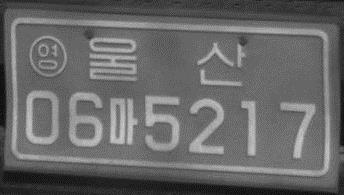0: (23, 88, 59, 144)
1: (237, 98, 258, 160)
2: (188, 96, 227, 156)
5: (143, 94, 182, 152)
6: (67, 89, 103, 147)
7: (277, 99, 317, 162)
마: (108, 95, 139, 148)
영: (27, 33, 67, 78)
울산_D: (87, 33, 247, 89)
